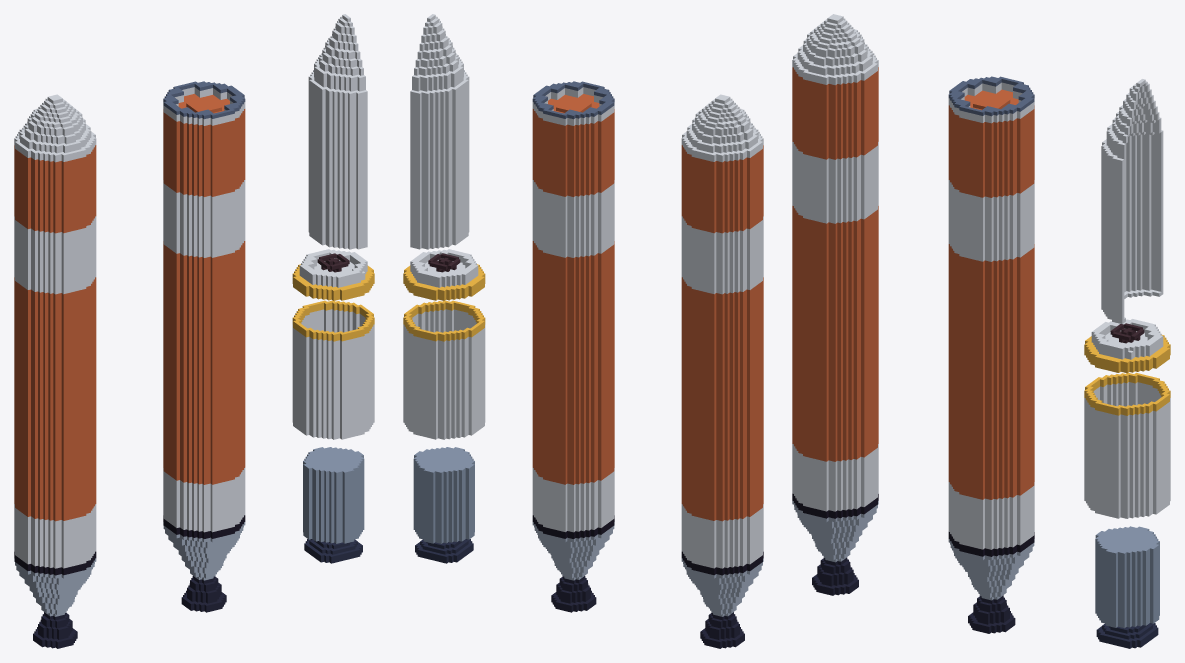
The model's file is Lake_IV_Heavy_all_parts.obj.
3 renders of one model, left to right at view 1: azimuth 30°, elevation 25°; view 2: azimuth 150°, elevation 25°; view 3: azimuth 330°, elevation 25°, orthographic. The views are drawn at different scales.
Bounding box in the file's own units: 10.7 × 16.3 × 2.1.
Materials: 1 (1 with a texture image).
